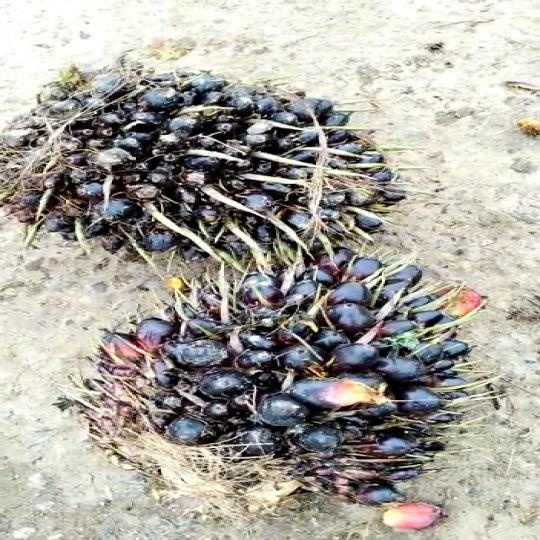mentah: (94, 254, 481, 530), (0, 53, 420, 281)
